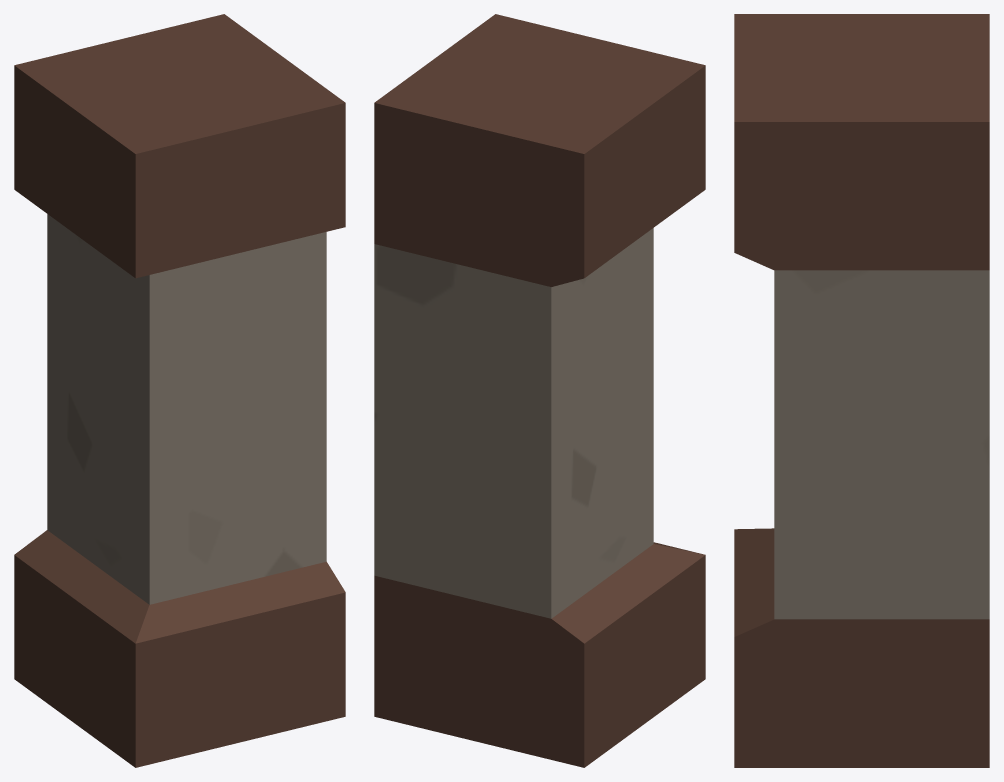
The model's file is SM_Bld_Trim_Wall_Low_03_Pillar_05.obj.
3 renders of one model, left to right at view 1: azimuth 30°, elevation 25°; view 2: azimuth 150°, elevation 25°; view 3: azimuth 270°, elevation 25°, orthographic. The views are drawn at different scales.
Visible parts, largest first — view 1: SM_Bld_Trim_Wall_Low_03_Pillar_05_0, SM_Bld_Trim_Wall_Low_03_Pillar_05_1; view 2: SM_Bld_Trim_Wall_Low_03_Pillar_05_0, SM_Bld_Trim_Wall_Low_03_Pillar_05_1; view 3: SM_Bld_Trim_Wall_Low_03_Pillar_05_0, SM_Bld_Trim_Wall_Low_03_Pillar_05_1.
Part boxes in pixels (left/top/right/bottom): SM_Bld_Trim_Wall_Low_03_Pillar_05_0: left=14, top=14, right=345, bottom=767; SM_Bld_Trim_Wall_Low_03_Pillar_05_1: left=47, top=214, right=326, bottom=604; SM_Bld_Trim_Wall_Low_03_Pillar_05_0: left=374, top=14, right=705, bottom=767; SM_Bld_Trim_Wall_Low_03_Pillar_05_1: left=374, top=228, right=653, bottom=618; SM_Bld_Trim_Wall_Low_03_Pillar_05_0: left=734, top=14, right=989, bottom=767; SM_Bld_Trim_Wall_Low_03_Pillar_05_1: left=774, top=270, right=989, bottom=619.
Size of the model in its own units: 0.2059 by 0.5746 by 0.2059.
Materials: 2 (2 with a texture image).
